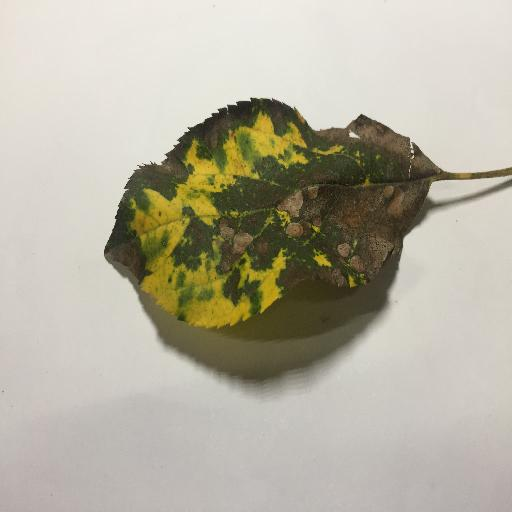Brown_Spot: (87, 87, 512, 339)
